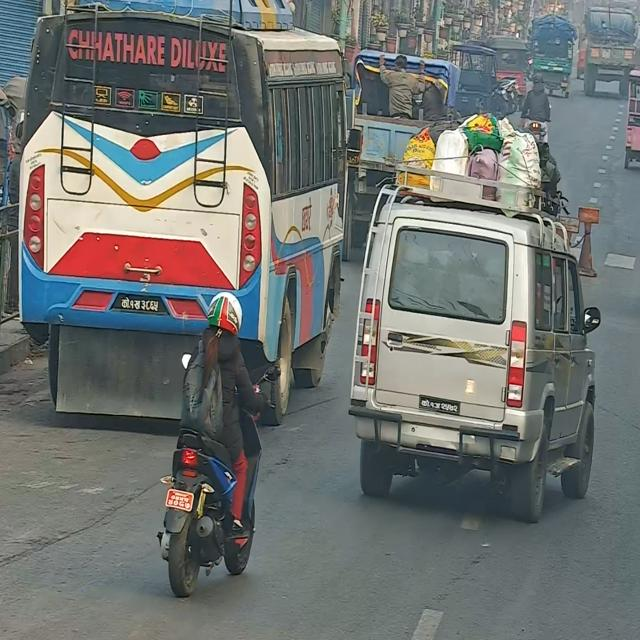license_plate: (78, 289, 186, 325), (157, 481, 213, 529), (403, 389, 479, 421)
